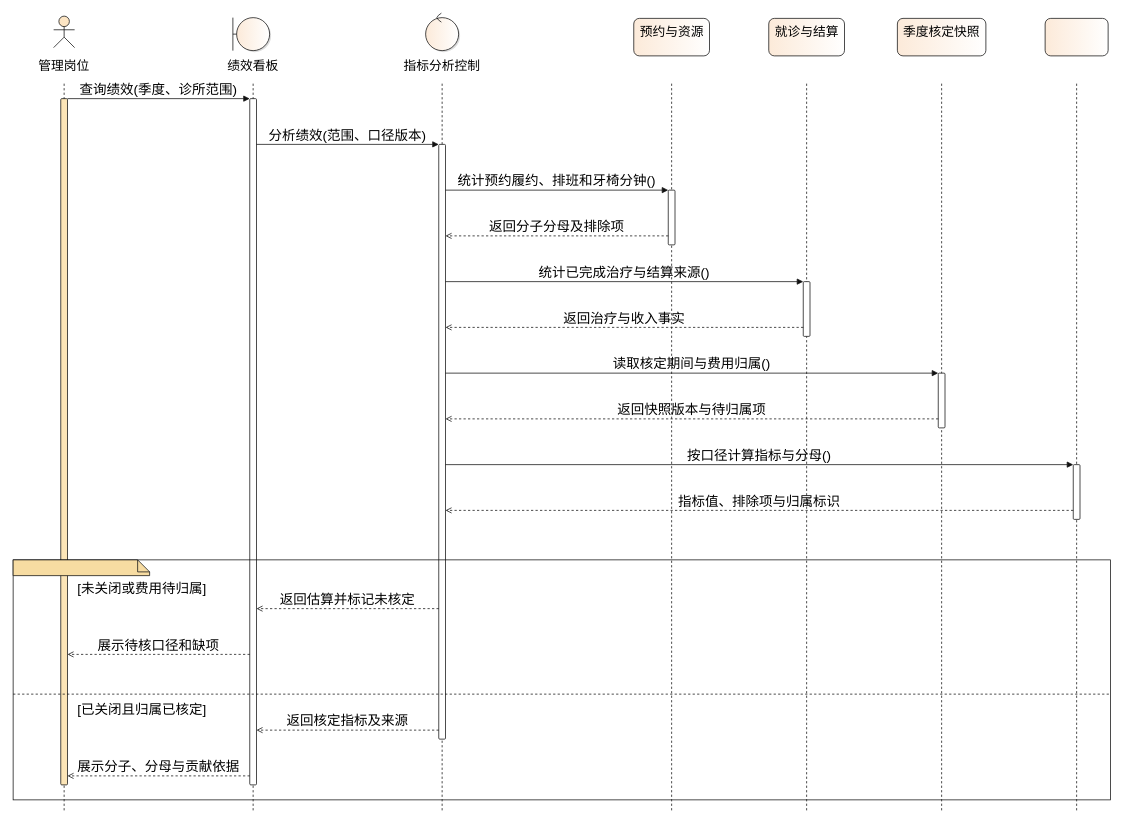
This 1124x825 diagram has some shape labels left out. Each missing label, with the centre of its shape:
alt 期间与费用口径: pixel 81 567
指标口径: pixel 1076 37
